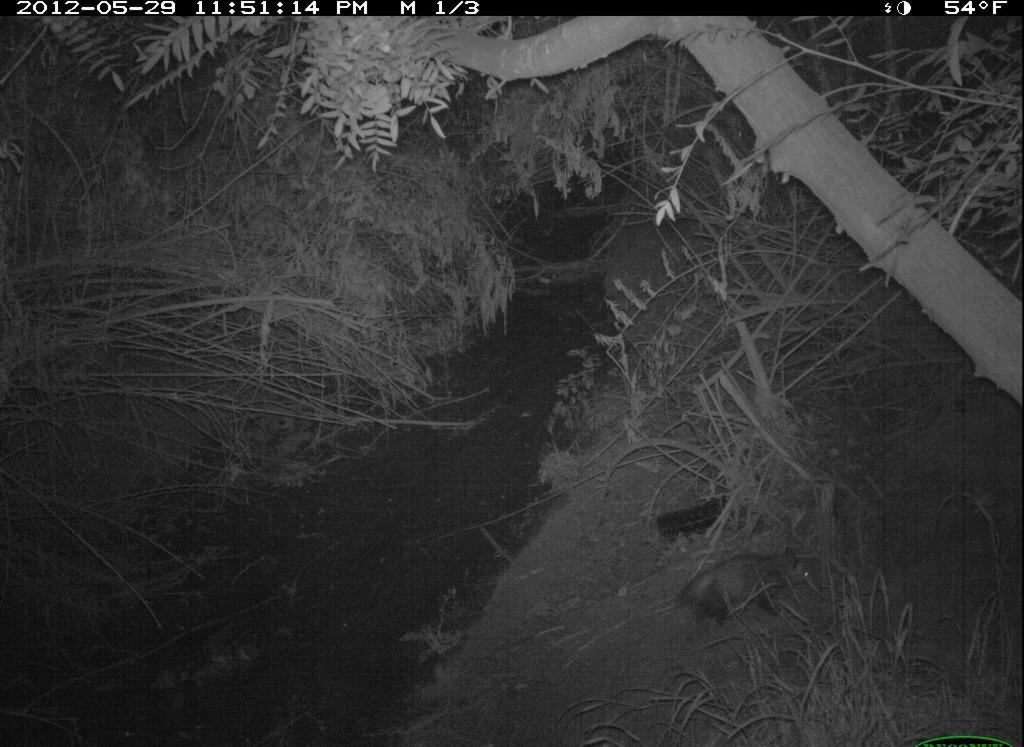opossum: (673, 544, 821, 631)
